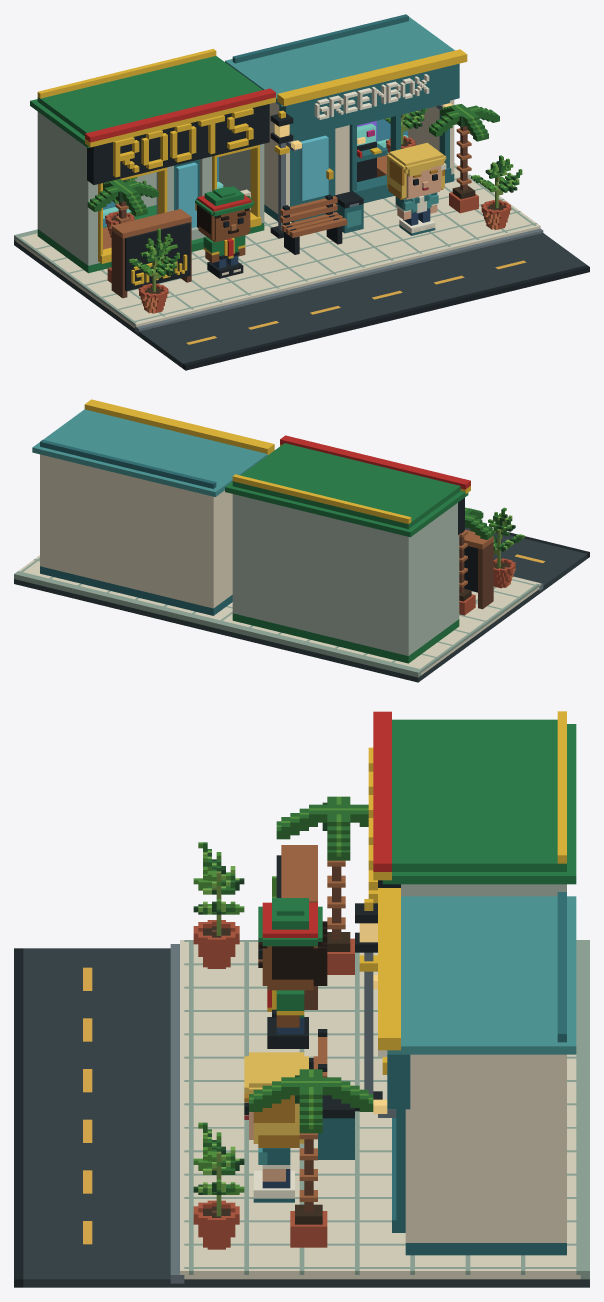
File: roots_street.glb
The picture shows the model from 3 angles, top to bottom: view 1: azimuth 30°, elevation 25°; view 2: azimuth 150°, elevation 25°; view 3: azimuth 270°, elevation 25°; orthographic projection. The views are drawn at different scales.
Parts seen in each view (by area): view 1: roots_street; view 2: roots_street; view 3: roots_street.
Part boxes in pixels (x1,y1,x2,y2): roots_street: (14,14,589,370); roots_street: (14,399,589,682); roots_street: (14,711,589,1287).
Bounding box in the file's own units: 8.5 × 3.1 × 6.25.
2 materials, 2 textured.
